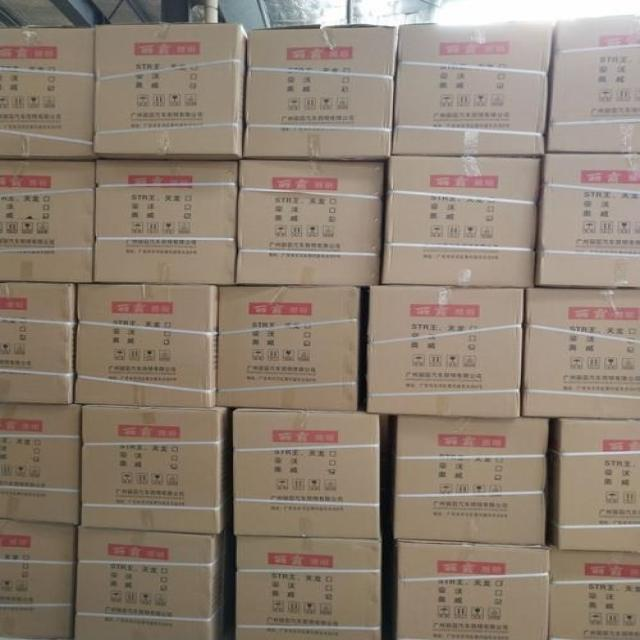box: (379, 154, 544, 288), (392, 22, 553, 155), (243, 22, 397, 160), (366, 286, 525, 419), (93, 23, 248, 159), (393, 414, 549, 545), (232, 409, 381, 539), (236, 159, 385, 286), (92, 159, 239, 286), (215, 285, 362, 412), (74, 283, 219, 408), (79, 406, 221, 533), (70, 527, 223, 640), (521, 287, 640, 420), (234, 535, 384, 639), (396, 541, 550, 640), (535, 152, 640, 289), (547, 13, 640, 153), (0, 27, 95, 160), (547, 419, 640, 553), (0, 159, 96, 284), (0, 404, 82, 526), (0, 521, 78, 640), (0, 281, 74, 405), (548, 549, 640, 640)
